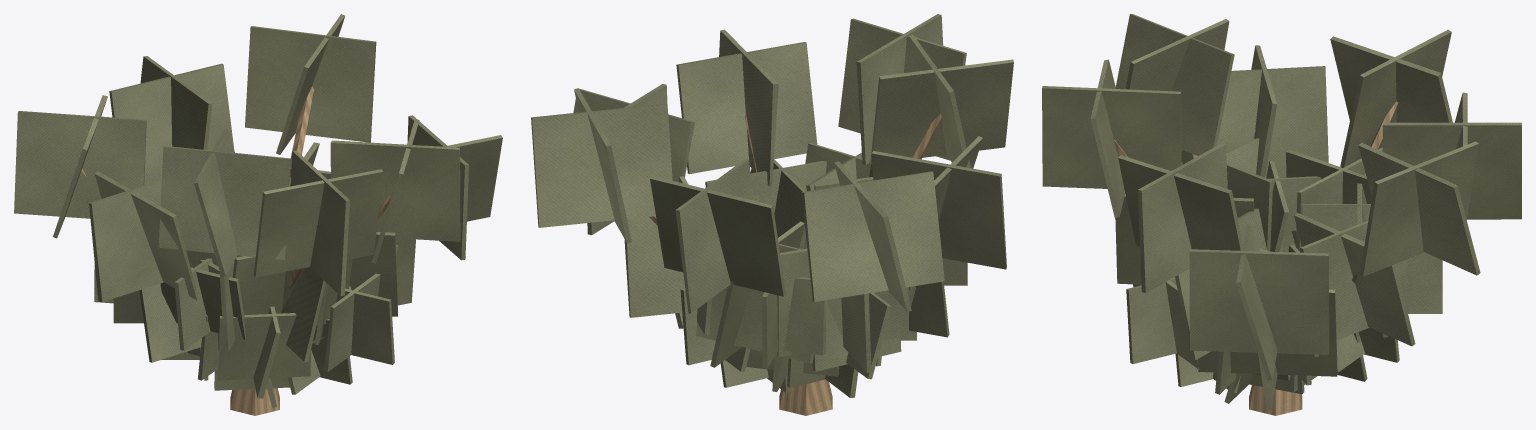
The model's file is bush_v2.glb.
3 views of the same model, side by side, from view 1: azimuth 30°, elevation 25°; view 2: azimuth 150°, elevation 25°; view 3: azimuth 270°, elevation 25° (orthographic). The views are drawn at different scales.
Parts seen in each view (by area): view 1: Variant_bush_2; view 2: Variant_bush_2; view 3: Variant_bush_2.
Boxes of the visible parts, x1,y1,x2,y2 form: Variant_bush_2: (14, 14, 502, 415); Variant_bush_2: (531, 14, 1013, 415); Variant_bush_2: (1042, 14, 1521, 415).
Size of the model in its own units: 1.22 by 0.8719 by 1.17.
Materials: 2 (2 with a texture image).
